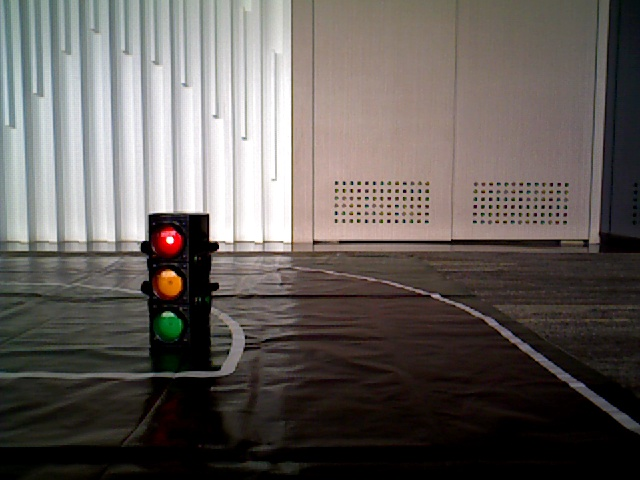red: (150, 217, 194, 348)
